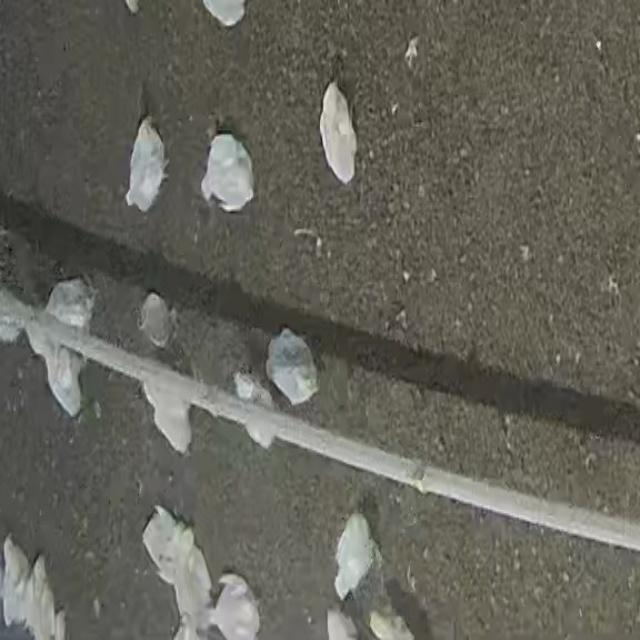chicken: (162, 529, 210, 633), (140, 374, 195, 458), (200, 134, 257, 215), (316, 81, 361, 182), (266, 328, 317, 406), (334, 512, 379, 600), (125, 118, 167, 211), (42, 342, 84, 422), (140, 509, 180, 586), (25, 554, 60, 640), (215, 572, 258, 640), (236, 369, 272, 449), (44, 277, 96, 332), (0, 534, 26, 628), (138, 292, 172, 350), (370, 610, 414, 640), (326, 611, 353, 640)
